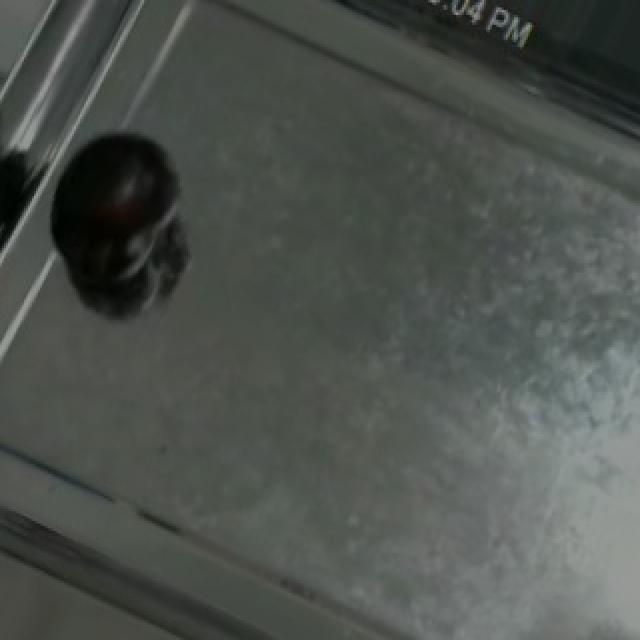Fruit: (26, 109, 194, 323)
